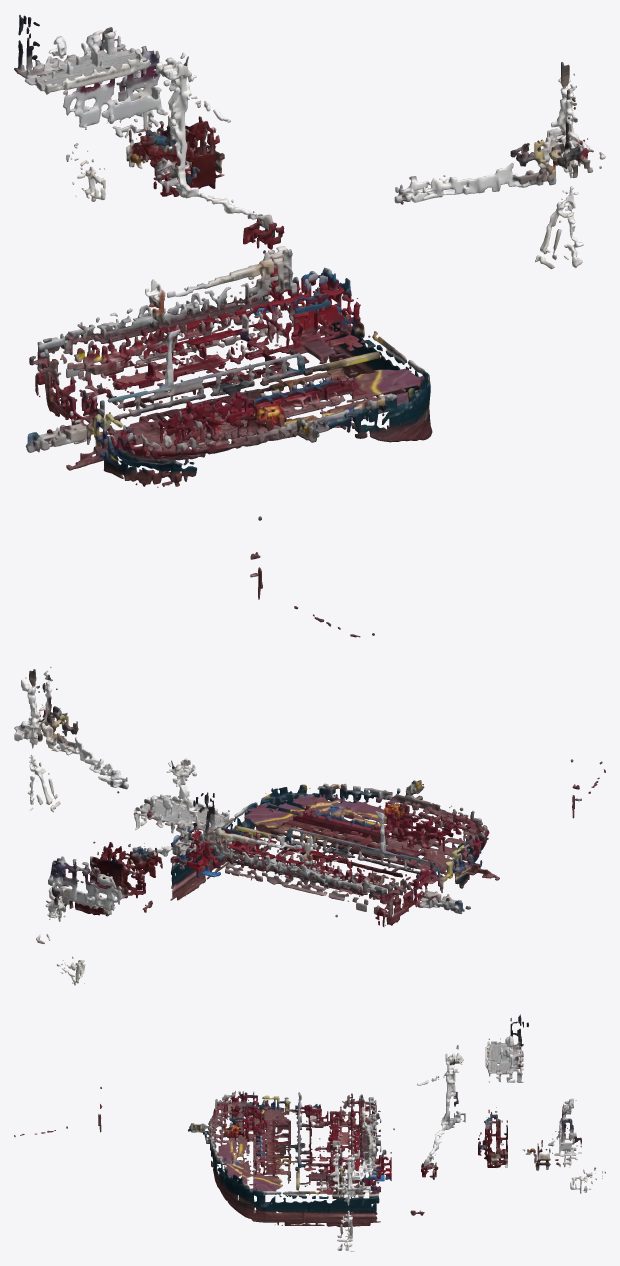
Rendered from lm+slat-max_2026-05-06T114244.915.glb.
The picture shows the model from 3 angles, top to bottom: view 1: azimuth 30°, elevation 25°; view 2: azimuth 150°, elevation 25°; view 3: azimuth 270°, elevation 25°; orthographic projection. The views are drawn at different scales.
Visible parts, largest first — view 1: world; view 2: world; view 3: world.
Part boxes in pixels (left/top/right/bottom): world: left=14, top=15, right=605, bottom=637; world: left=14, top=666, right=605, bottom=985; world: left=14, top=1014, right=605, bottom=1251.
Size of the model in its own units: 0.5625 by 0.2691 by 0.8758.
Materials: 1 (1 with a texture image).
